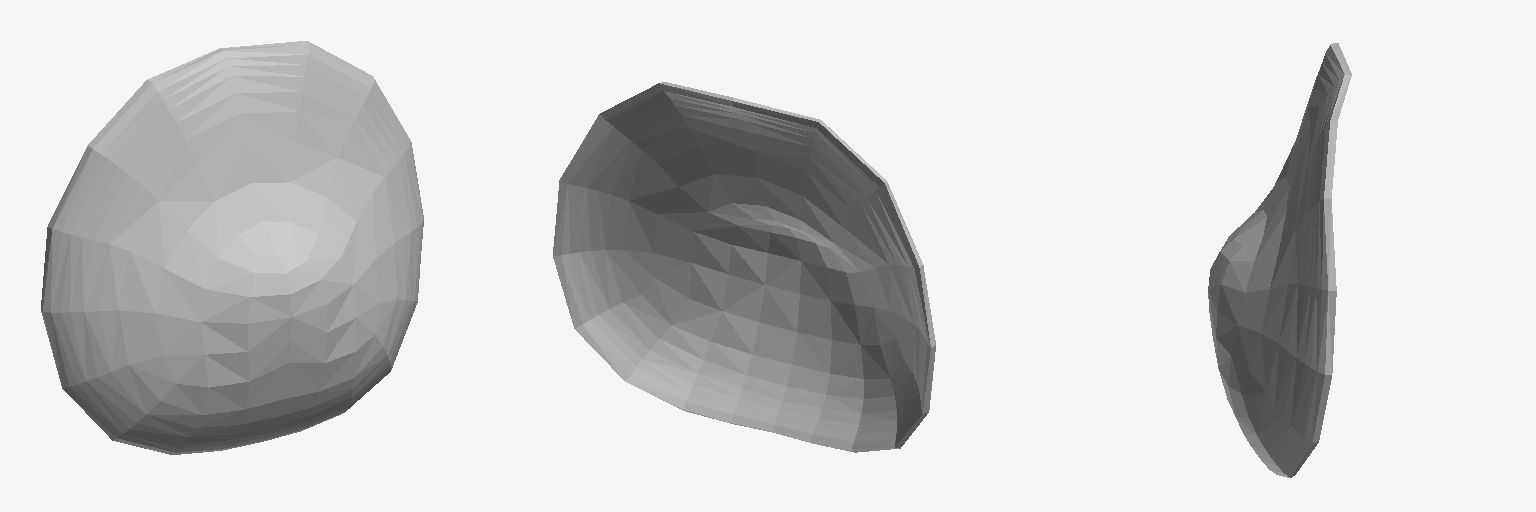
3 views of the same model, side by side, from view 1: azimuth 30°, elevation 25°; view 2: azimuth 150°, elevation 25°; view 3: azimuth 270°, elevation 25° (orthographic).
Visible parts, largest first — view 1: ZBrush_defualt_group; view 2: ZBrush_defualt_group; view 3: ZBrush_defualt_group.
Part boxes in pixels (bbox=[...]): ZBrush_defualt_group: bbox=[41, 41, 423, 454]; ZBrush_defualt_group: bbox=[553, 82, 935, 452]; ZBrush_defualt_group: bbox=[1208, 43, 1351, 477].
Bounding box in the file's own units: 49.97 × 45.46 × 16.36.